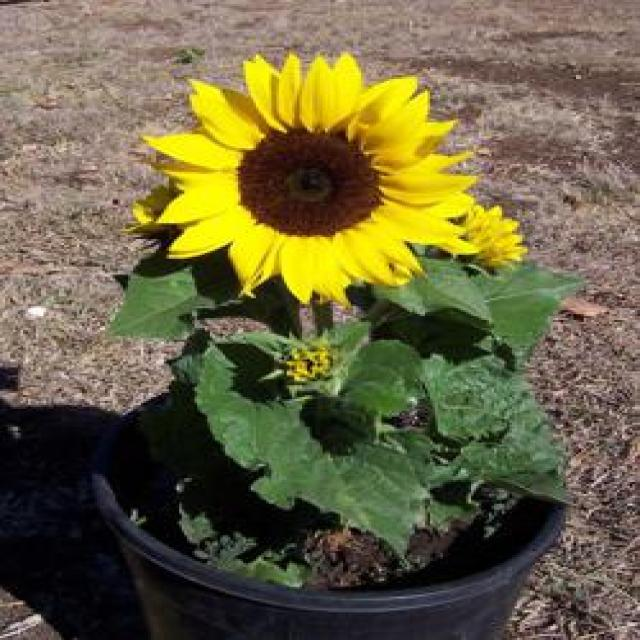sunflower: (136, 46, 486, 306)
